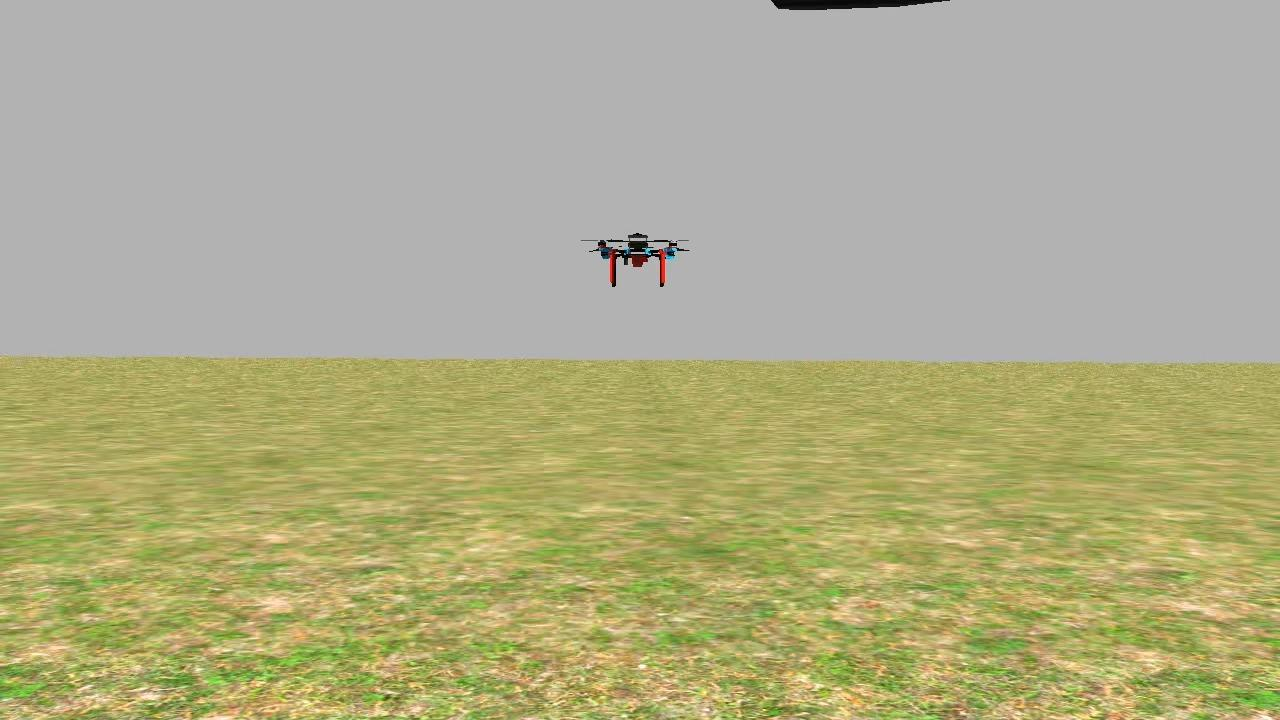UAV: (594, 224, 688, 294)
